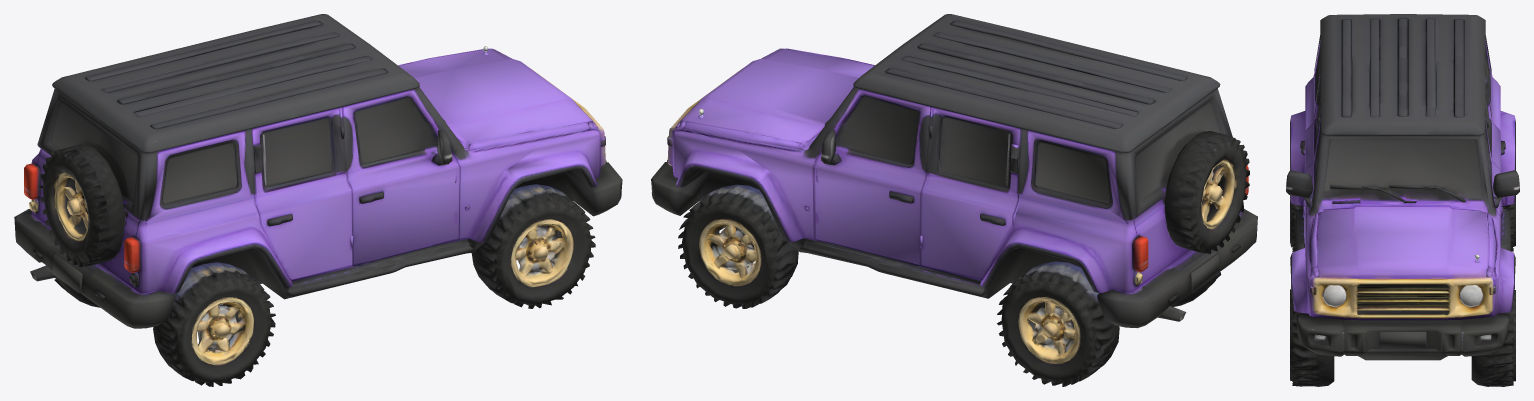
The model's file is r33-suv.glb.
3 renders of one model, left to right at view 1: azimuth 30°, elevation 25°; view 2: azimuth 150°, elevation 25°; view 3: azimuth 270°, elevation 25°, orthographic. The views are drawn at different scales.
Visible parts, largest first — view 1: tripo_node_263cff5c-7482-4c76-9f98-64fdd35ae9d4; view 2: tripo_node_263cff5c-7482-4c76-9f98-64fdd35ae9d4; view 3: tripo_node_263cff5c-7482-4c76-9f98-64fdd35ae9d4.
Part boxes in pixels (x1,y1,x2,y2): tripo_node_263cff5c-7482-4c76-9f98-64fdd35ae9d4: (14, 14, 622, 386); tripo_node_263cff5c-7482-4c76-9f98-64fdd35ae9d4: (651, 14, 1257, 386); tripo_node_263cff5c-7482-4c76-9f98-64fdd35ae9d4: (1286, 14, 1519, 386).
Bounding box in the file's own units: 0.998 × 0.459 × 0.4551.
1 material, 1 textured.
